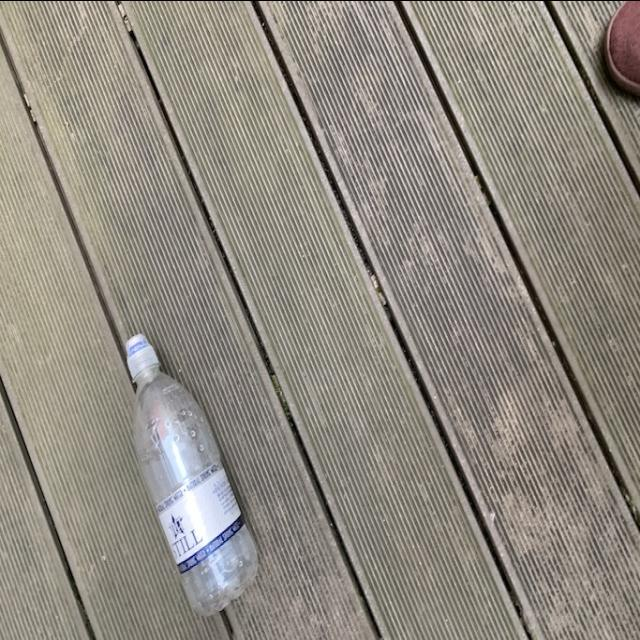litter: (123, 332, 264, 616)
